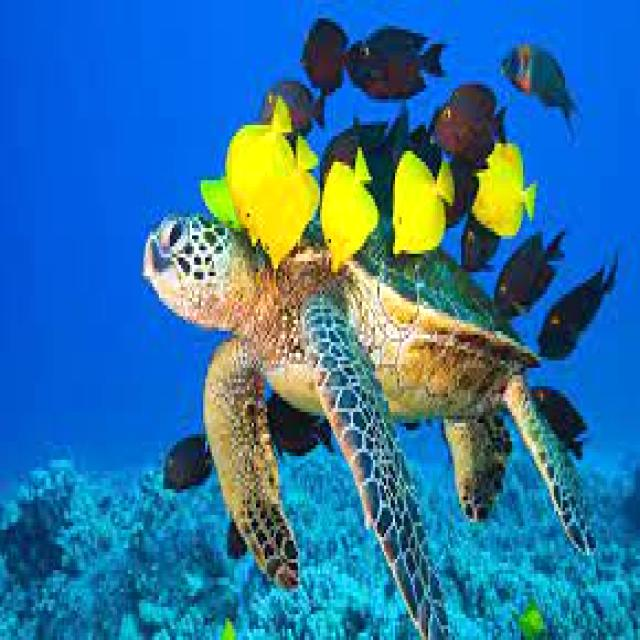Sea turtle: (136, 198, 600, 640)
